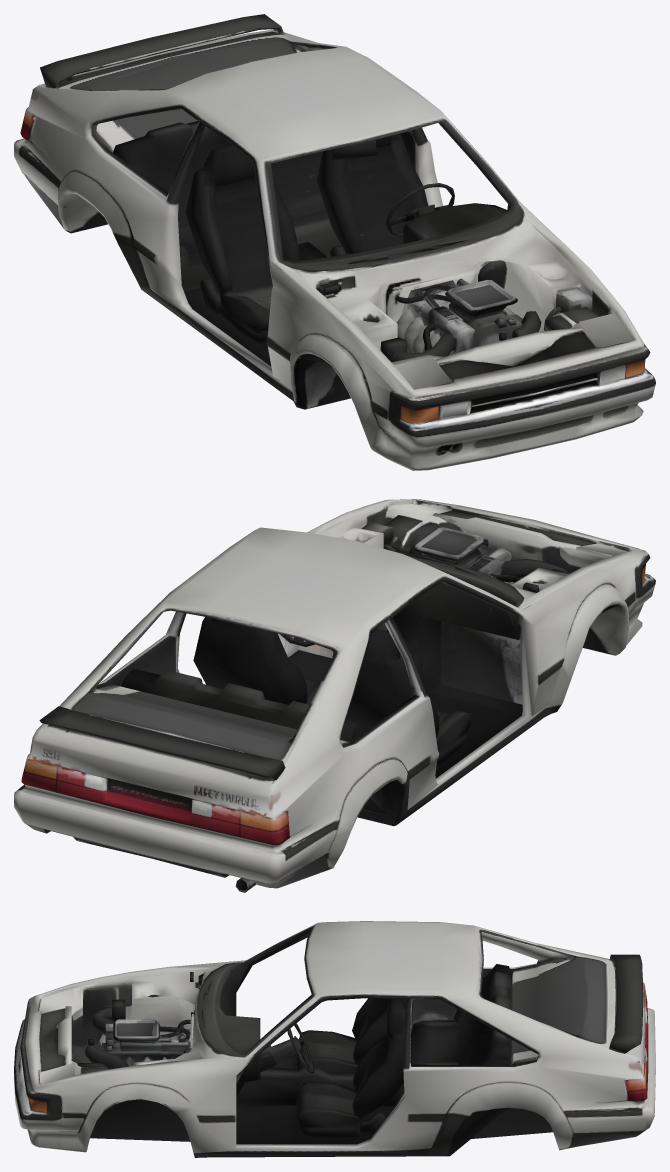
File: original_glb.glb
3 renders of one model, top to bottom at view 1: azimuth 30°, elevation 25°; view 2: azimuth 150°, elevation 25°; view 3: azimuth 270°, elevation 25°, orthographic. The views are drawn at different scales.
Parts seen in each view (by area): view 1: body shell; view 2: body shell; view 3: body shell.
Boxes of the visible parts, left/top/right/bottom form: body shell: left=14, top=14, right=655, bottom=470; body shell: left=14, top=499, right=655, bottom=892; body shell: left=14, top=921, right=655, bottom=1157.
Bounding box in the file's own units: 0.4277 × 0.2676 × 0.998.
Materials: 1 (1 with a texture image).
